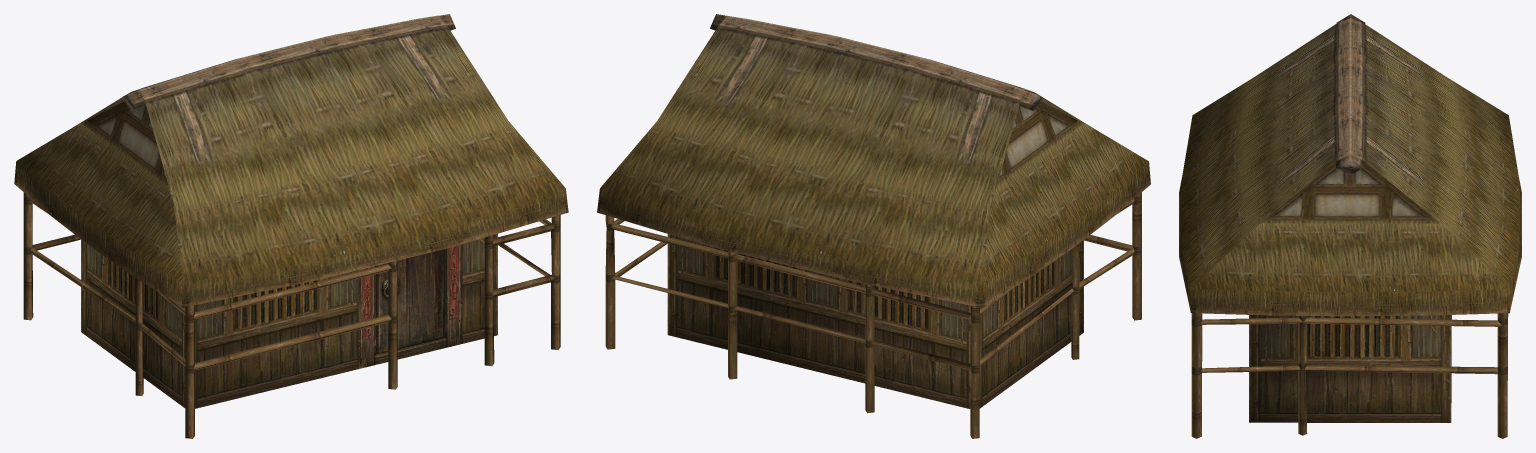
Rendered from C5_straw hut_2.FBX.
3 views of the same model, side by side, from view 1: azimuth 30°, elevation 25°; view 2: azimuth 150°, elevation 25°; view 3: azimuth 270°, elevation 25° (orthographic). The views are drawn at different scales.
Visible parts, largest first — view 1: C5_straw hut_2; view 2: C5_straw hut_2; view 3: C5_straw hut_2.
Boxes of the visible parts, x1=… form: C5_straw hut_2: x1=14, y1=14, x2=568, y2=438; C5_straw hut_2: x1=597, y1=14, x2=1150, y2=438; C5_straw hut_2: x1=1179, y1=14, x2=1521, y2=438.
Size of the model in its own units: 588 by 405 by 462.
